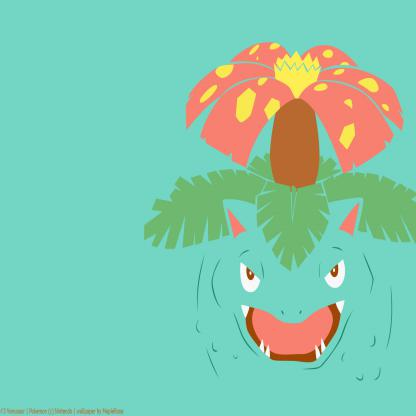Venusaur: (138, 18, 416, 416)
